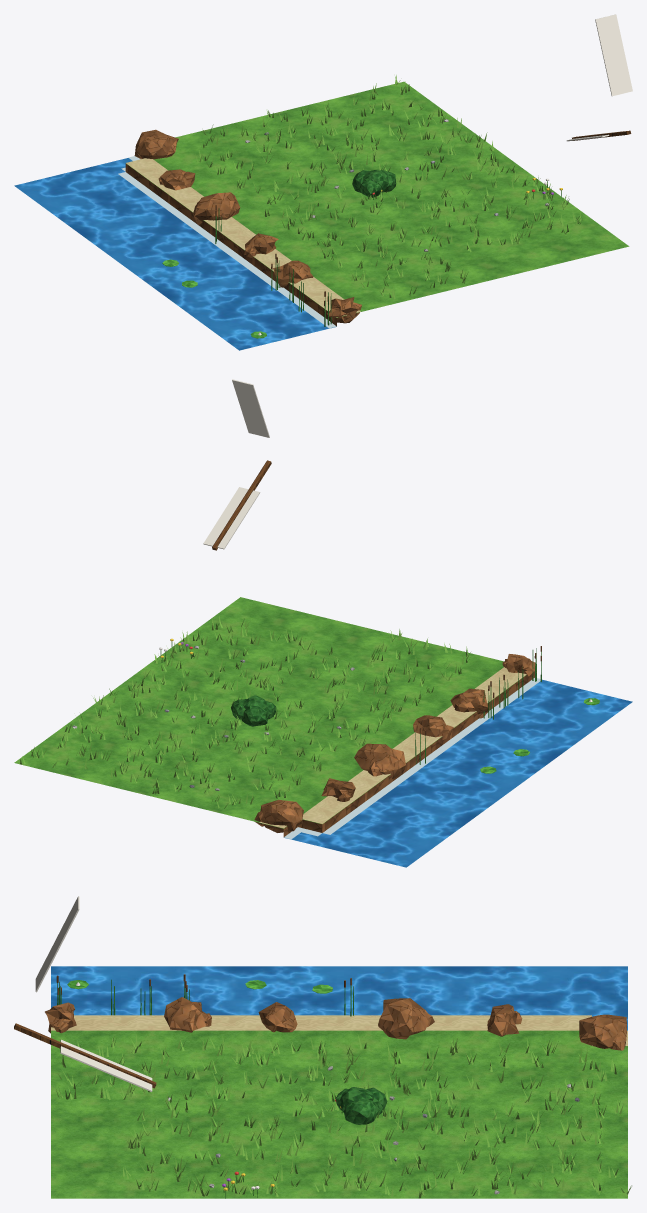
The model's file is chunk_0_6.glb.
3 views of the same model, one above another, from view 1: azimuth 30°, elevation 25°; view 2: azimuth 150°, elevation 25°; view 3: azimuth 270°, elevation 25° (orthographic). The views are drawn at different scales.
Visible parts, largest first — view 1: chunk_0_6; view 2: chunk_0_6; view 3: chunk_0_6.
Boxes of the visible parts, x1,y1,x2,y2 form: chunk_0_6: [14, 14, 632, 350]; chunk_0_6: [14, 379, 632, 867]; chunk_0_6: [14, 896, 631, 1198].
Bounding box in the file's own units: 16.12 × 9.27 × 17.17.
20 materials, 13 textured.
